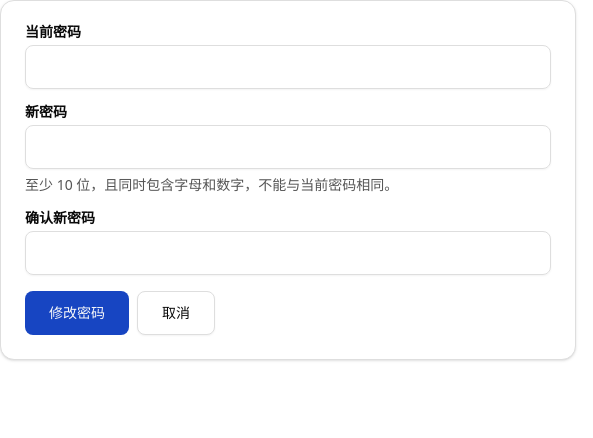
Test: ChangePasswordForm：错误与不回填 › 表单级提示（限流、操作未生效）以 alert 展示
This screenshot has width=593, height=438.
Type "Old-Secret-pass1" into the password field labelled "当前密码" at (288, 67), box top-left (25, 45), bottom-right (551, 89)
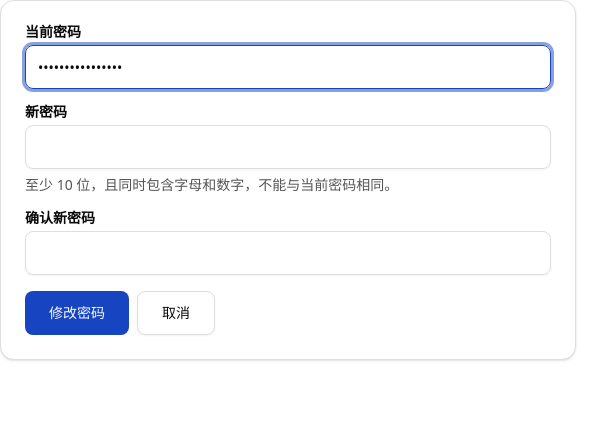
Type "New-Secret-pass2" into the password field labelled "新密码" at (288, 147), box top-left (25, 125), bottom-right (551, 169)
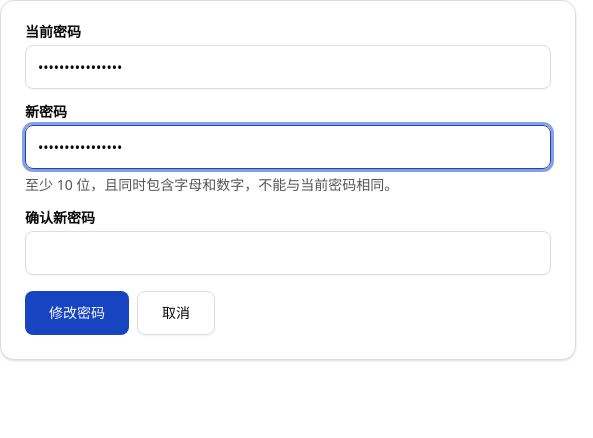
Type "New-Secret-pass2" into the password field labelled "确认新密码" at (288, 253), box top-left (25, 231), bottom-right (551, 275)
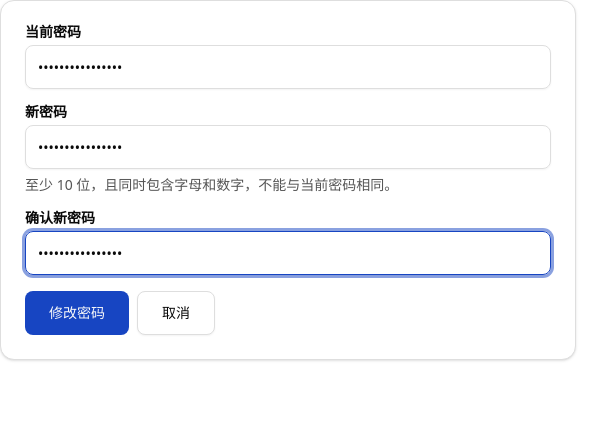
Click the button "修改密码" at (77, 313), box top-left (25, 291), bottom-right (129, 335)
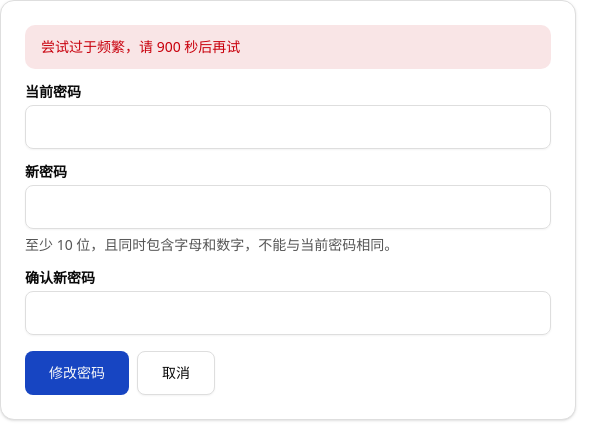
Expected: the message reads "尝试过于频繁，请 900 秒后再试", top-left (41, 37), bottom-right (240, 56)
Expected: the password field labelled "当前密码" is empty, top-left (25, 105), bottom-right (551, 149)
